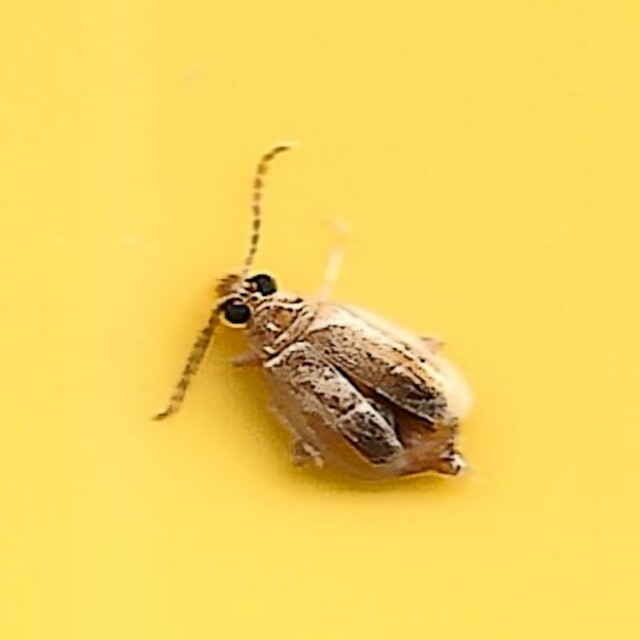Coleoptera: (161, 144, 479, 496)
